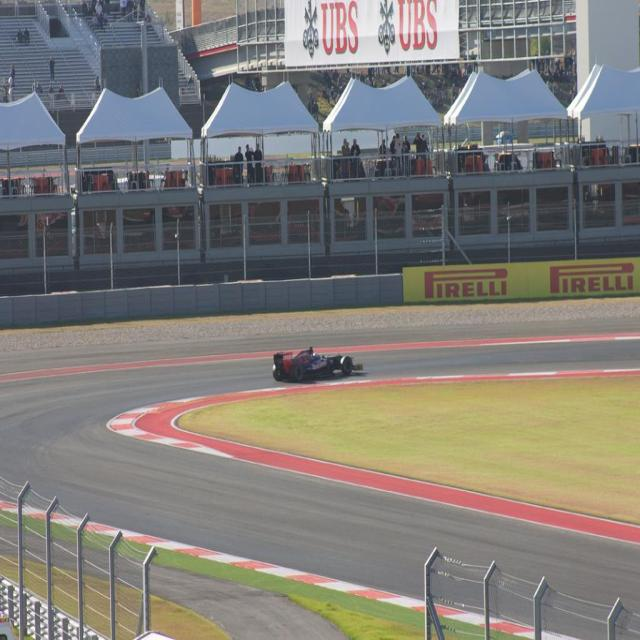car: (273, 342, 362, 380)
